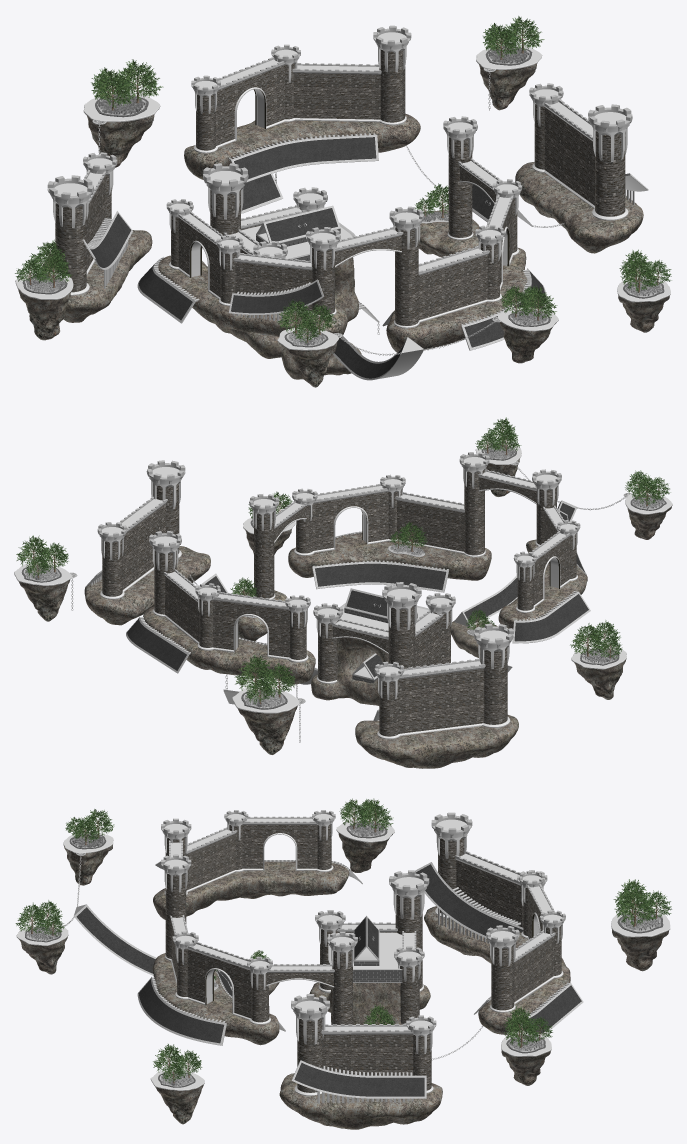
The model's file is surf_castle_3.fbx.
3 views of the same model, one above another, from view 1: azimuth 30°, elevation 25°; view 2: azimuth 150°, elevation 25°; view 3: azimuth 270°, elevation 25° (orthographic). The views are drawn at different scales.
Visible parts, largest first — view 1: Circle.056, Circle.016, Circle.053, Cube.023, Cube.024, Circle.037, Circle.054, lev_ramp.027, Cube.002, Cube, Circle.004, Circle.018 (+40 smaller); view 2: Circle.056, Circle.016, Circle.038, Cube.019, Circle.037, Cube.002, Cube.023, Circle.053, lev_ramp.006, Cube.024, Circle.054, Cube.001 (+30 smaller); view 3: Circle.056, Circle.016, Cube, Circle.054, Cube.024, Circle.053, lev_ramp.002, Cube.002, Circle.038, Circle.002, lev_ramp.004, Circle.003 (+30 smaller).
Boxes of the visible parts, x1,y1,x2,y2 form: Circle.056: (191,25,411,153); Circle.016: (418,179,522,322); Circle.053: (529,83,632,220); Cube.023: (184,113,420,179); Cube.024: (515,162,643,253); Circle.037: (47,152,117,295); Circle.054: (544,99,594,208); lev_ramp.027: (231,134,378,182); Cube.002: (386,247,527,352); Cube: (157,255,347,340); Circle.004: (389,206,424,328); Circle.018: (443,116,477,239); Circle.056: (149,531,310,662); Circle.016: (292,474,464,555); Circle.038: (398,658,485,735); Cube.019: (355,715,518,768); Circle.037: (374,623,513,739); Cube.002: (288,532,491,580); Cube.023: (143,606,315,684); Circle.053: (97,460,185,599); lev_ramp.006: (312,561,448,592); Cube.024: (84,546,210,625); Circle.054: (119,496,167,591); Cube.001: (311,637,388,705); Circle.056: (486,870,565,1012); Circle.016: (170,915,272,1024); Cube: (153,861,349,919); Circle.054: (321,1024,413,1075); Cube.024: (279,1073,442,1129); Circle.053: (291,994,436,1095); lev_ramp.002: (291,1060,426,1098); Cube.002: (152,953,279,1045); Circle.038: (454,851,521,926); Circle.002: (242,816,317,870); lev_ramp.004: (137,977,226,1045); Circle.003: (186,827,237,891).
Bounding box in the file's own units: 12799 × 4113 × 13571.
